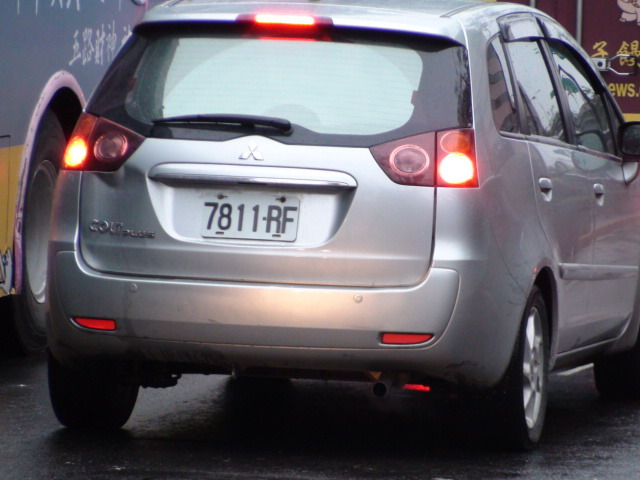plate: (199, 185, 301, 243)
